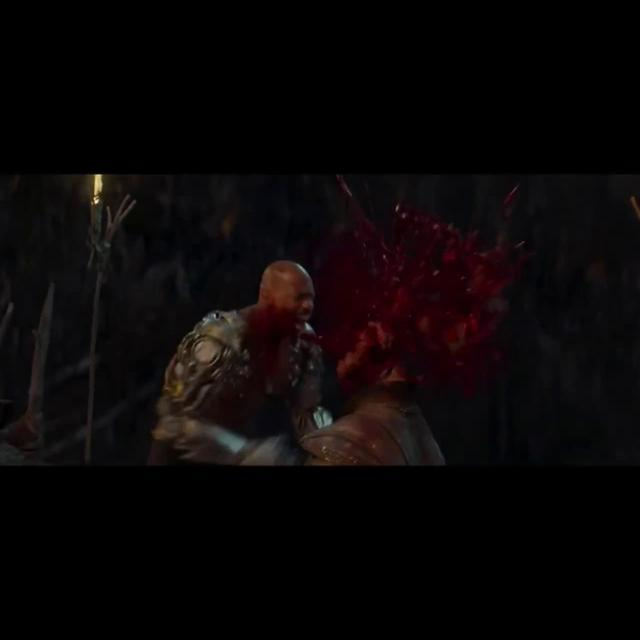blood: (308, 174, 533, 414), (240, 288, 298, 391), (504, 182, 522, 204)
